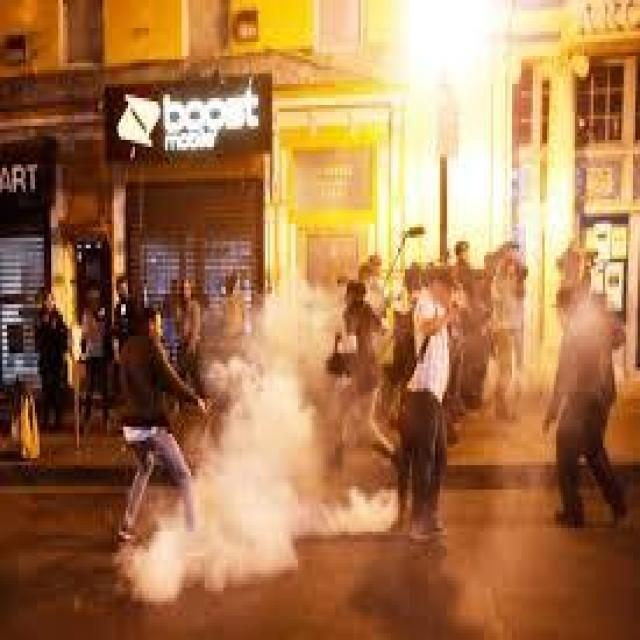Smoke: (124, 273, 403, 606)
